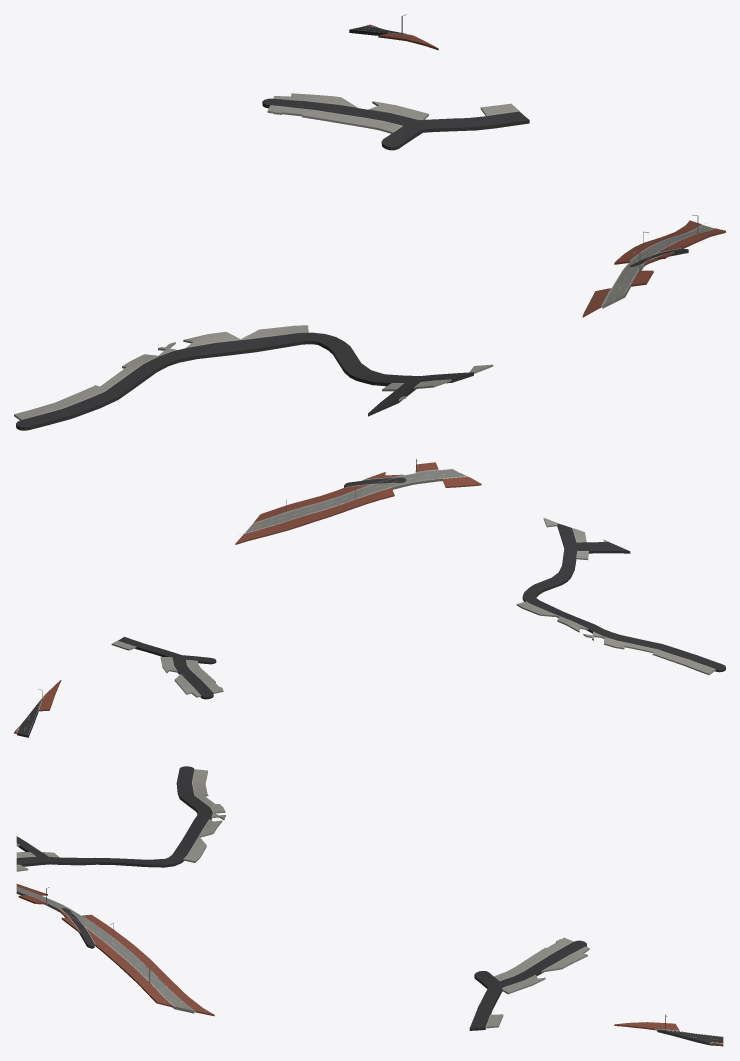
File: 17-109444-59453.d335dced.glb
3 renders of one model, top to bottom at view 1: azimuth 30°, elevation 25°; view 2: azimuth 150°, elevation 25°; view 3: azimuth 270°, elevation 25°, orthographic. The views are drawn at different scales.
Size of the model in its own units: 264 by 45.05 by 294.
